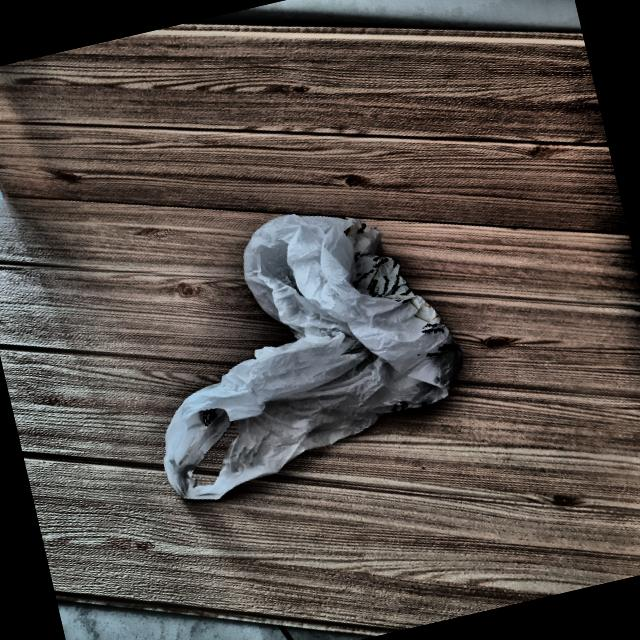plastic bag: (125, 192, 472, 494)
